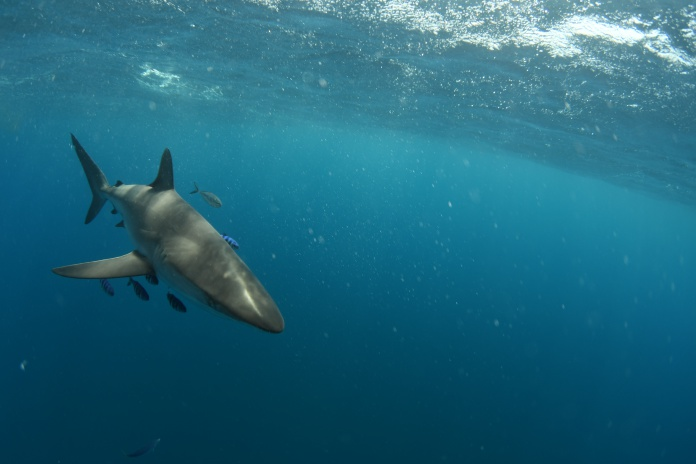Sedoso: (38, 121, 307, 344)
